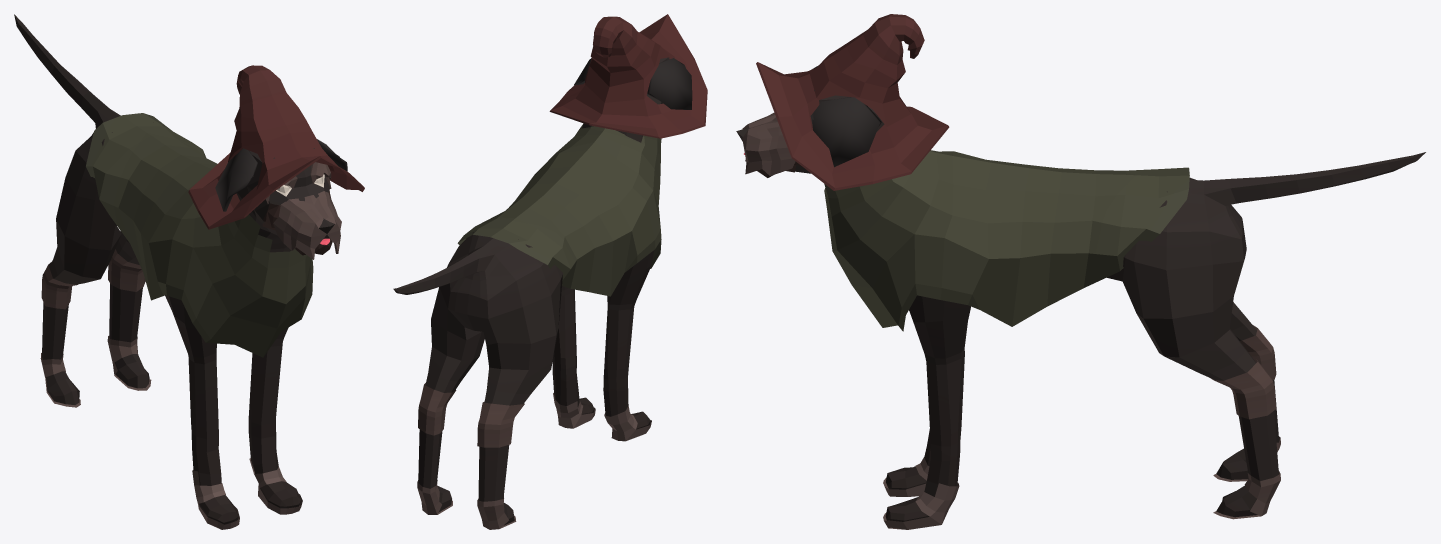
File: bartoCOLOR.fbx
The picture shows the model from 3 angles, left to right: view 1: azimuth 30°, elevation 25°; view 2: azimuth 150°, elevation 25°; view 3: azimuth 270°, elevation 25°; orthographic projection. The views are drawn at different scales.
Visible parts, largest first — view 1: Cube.010, Cube.001, Cube.009, Cube.013, Cube.008, Cube.002, Cube.005; view 2: Cube.001, Cube.010, Cube.009, Cube.013, Cube.002; view 3: Cube.010, Cube.001, Cube.009, Cube.013, Cube.002, Cube.008.
Boxes of the visible parts, box(x1,y1,x2,y2) form: Cube.010: box(86, 113, 313, 357); Cube.001: box(14, 14, 334, 524); Cube.009: box(188, 65, 364, 229); Cube.013: box(40, 249, 302, 529); Cube.008: box(266, 162, 341, 259); Cube.002: box(215, 139, 347, 211); Cube.005: box(262, 190, 332, 255); Cube.001: box(393, 57, 669, 525); Cube.010: box(457, 124, 661, 296); Cube.009: box(549, 14, 707, 138); Cube.013: box(417, 383, 651, 529); Cube.002: box(574, 58, 692, 109); Cube.010: box(824, 150, 1189, 331); Cube.001: box(736, 90, 1425, 521); Cube.009: box(756, 14, 949, 190); Cube.013: box(883, 325, 1280, 529); Cube.002: box(810, 65, 881, 167); Cube.008: box(742, 112, 795, 175).
Size of the model in its own units: 94.31 by 263 by 335.
1 material, 1 textured.
